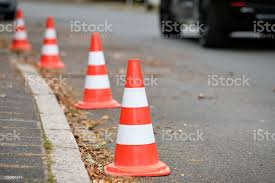car: (161, 1, 275, 49)
cone: (105, 60, 170, 176), (72, 32, 122, 109), (37, 16, 65, 68), (10, 8, 34, 51)
